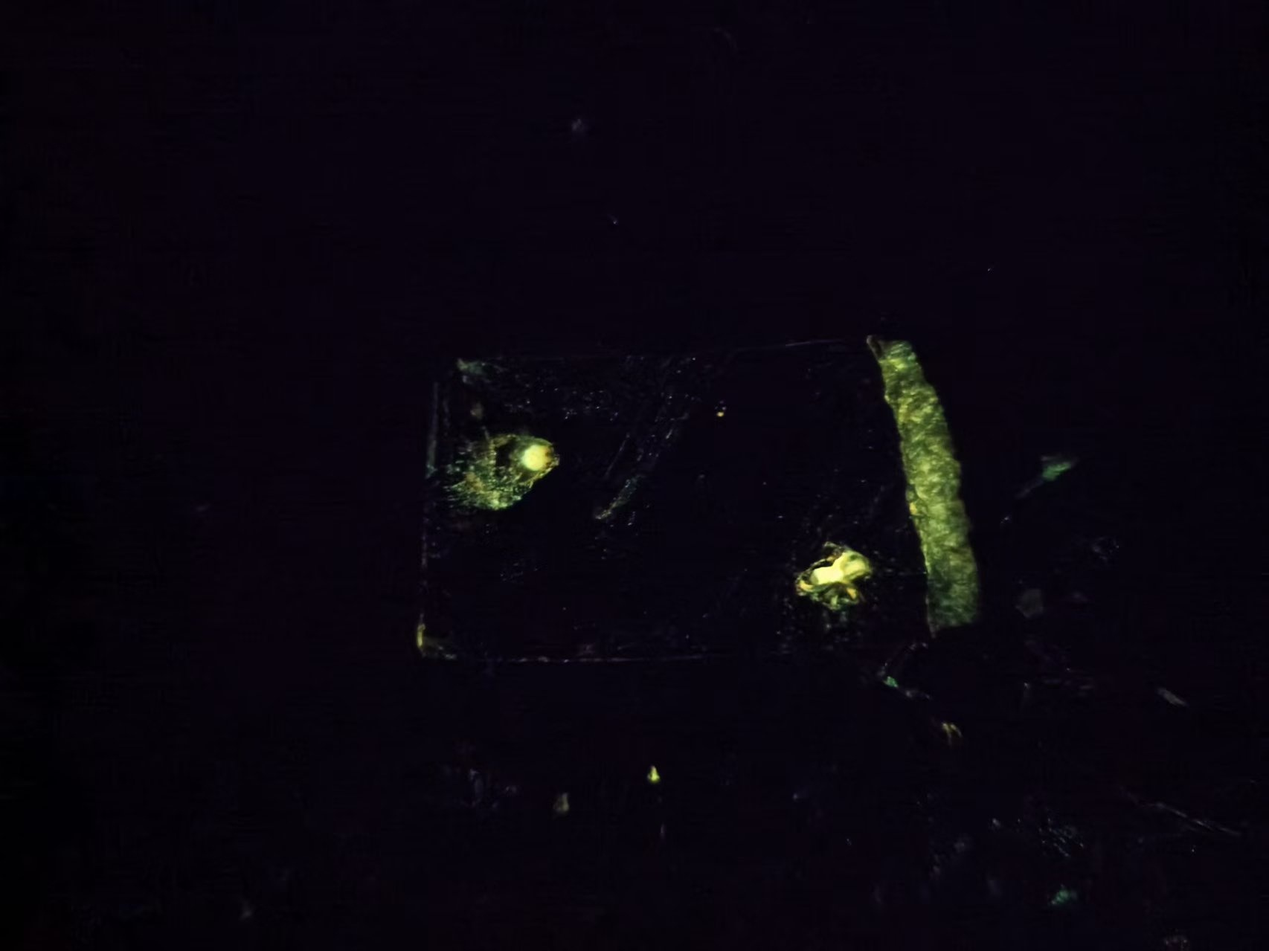Crater: (400, 410, 631, 533), (751, 526, 886, 637)
